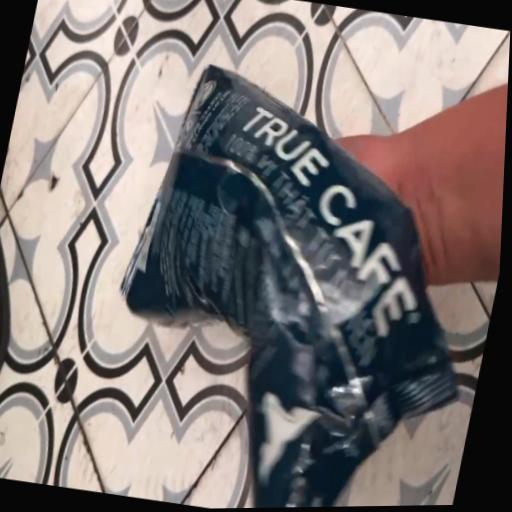cafe_hat: (121, 64, 458, 508)
